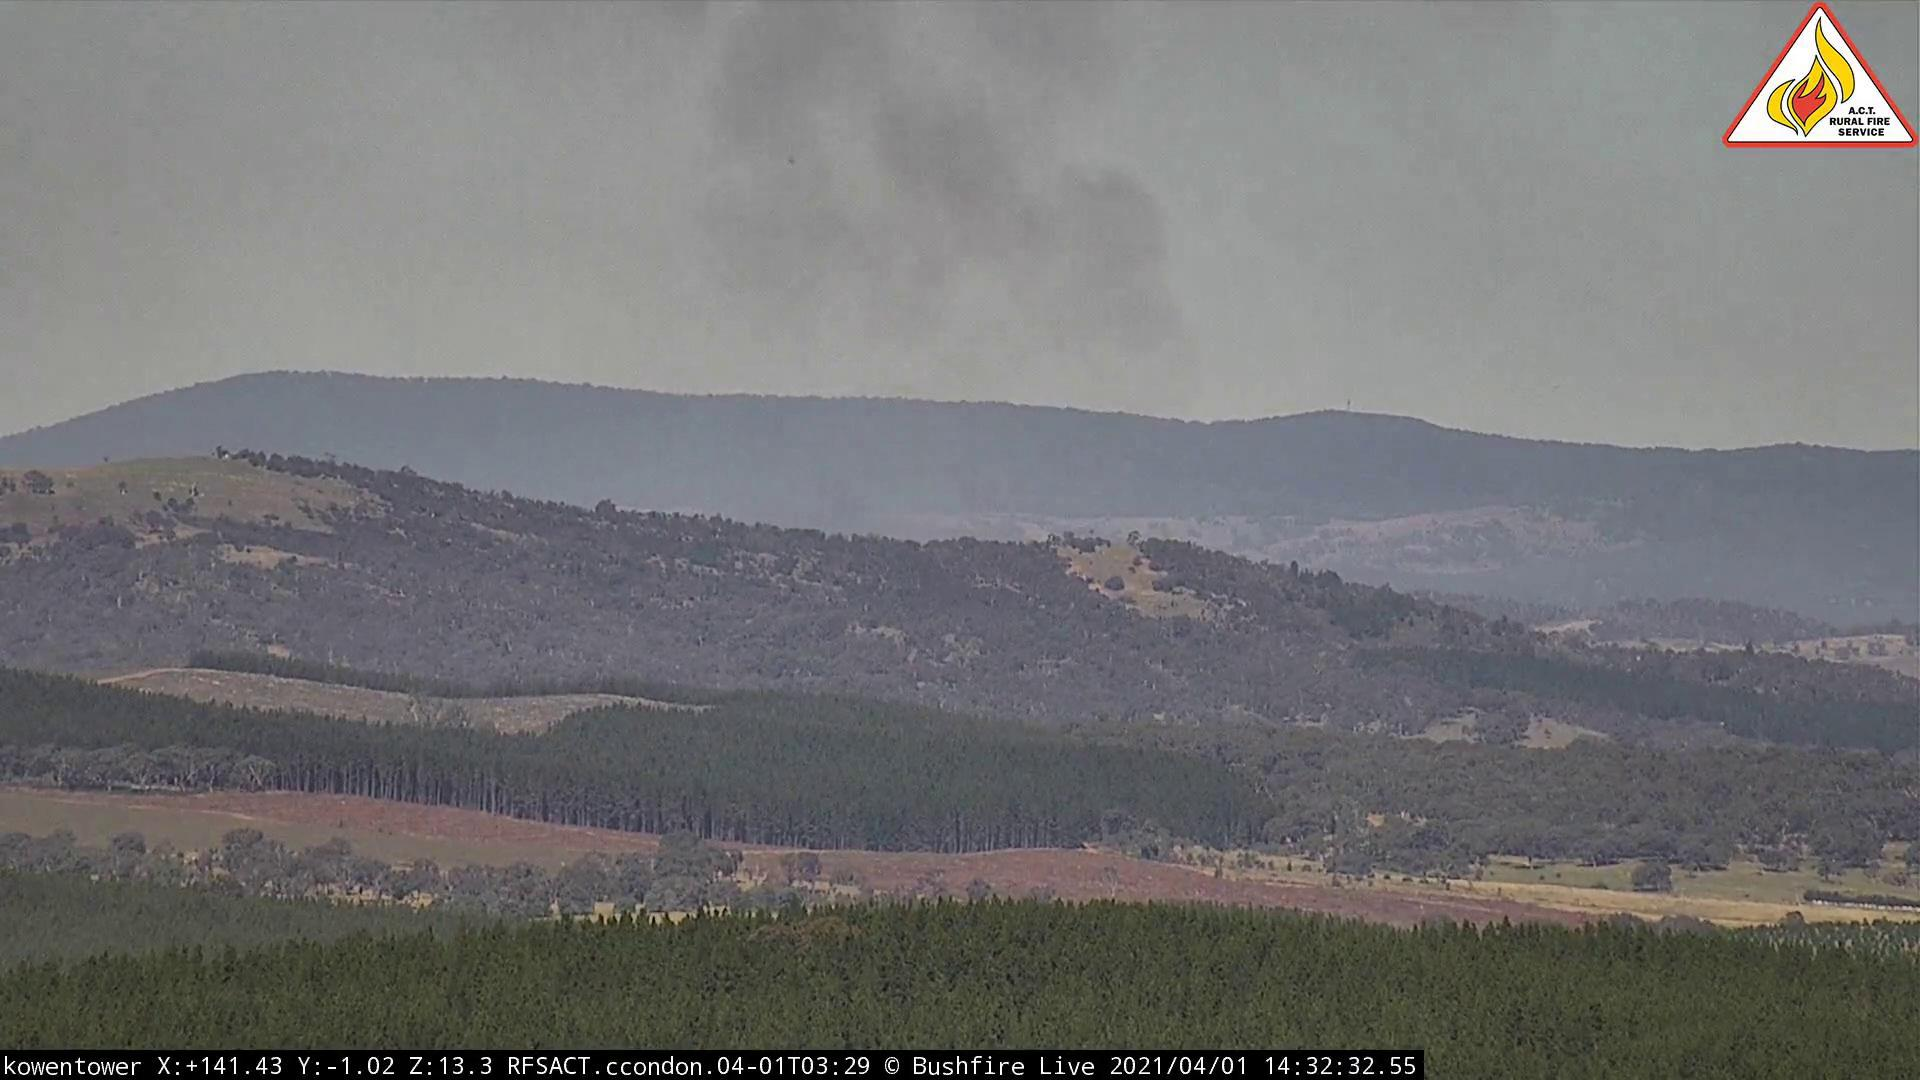Smoke: (589, 3, 1203, 568)
